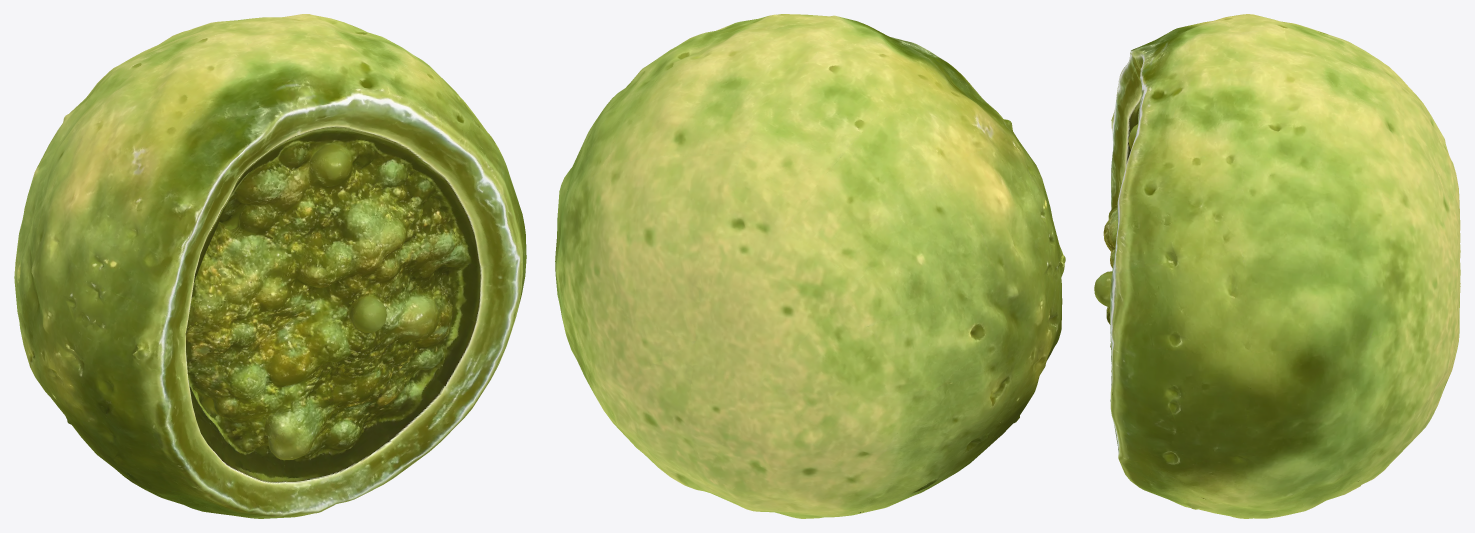
File: lysosome.glb
3 views of the same model, side by side, from view 1: azimuth 30°, elevation 25°; view 2: azimuth 150°, elevation 25°; view 3: azimuth 270°, elevation 25° (orthographic).
Visible parts, largest first — view 1: mesh_node; view 2: mesh_node; view 3: mesh_node.
Part boxes in pixels (x1,y1,x2,y2): mesh_node: (14,14,526,518); mesh_node: (555,14,1065,518); mesh_node: (1094,14,1460,518).
Size of the model in its own units: 1.9 by 1.87 by 1.36.
1 material, 1 textured.
